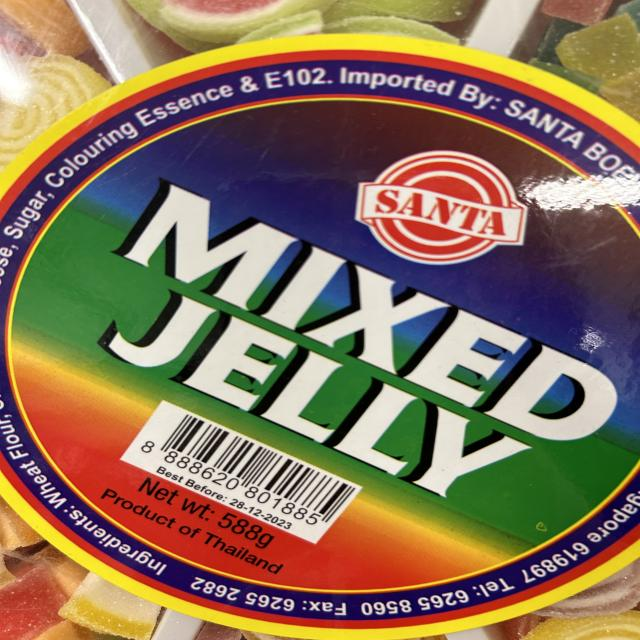object_name: (6, 0, 635, 640)
